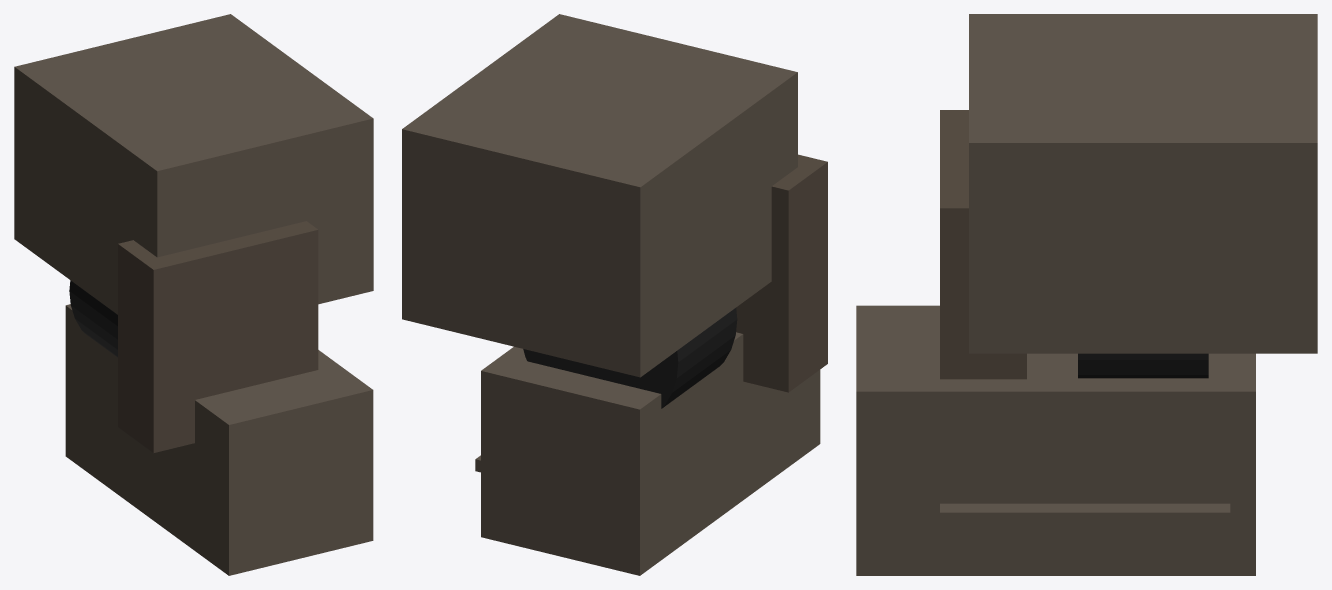
Rendered from arm_left_vagrant_01.obj.
3 renders of one model, left to right at view 1: azimuth 30°, elevation 25°; view 2: azimuth 150°, elevation 25°; view 3: azimuth 270°, elevation 25°, orthographic. The views are drawn at different scales.
Size of the model in its own units: 0.45 by 0.7 by 0.635.
